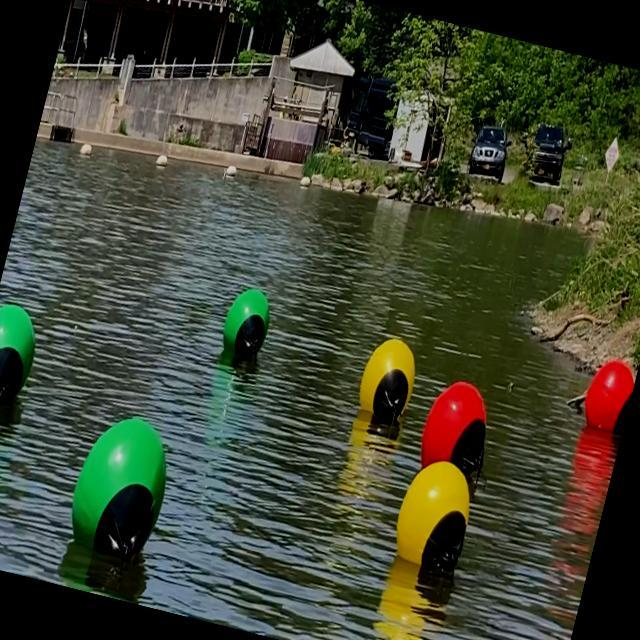buoy: (61, 406, 182, 567), (387, 451, 482, 580), (416, 374, 502, 478), (350, 330, 422, 425), (214, 282, 276, 365), (0, 298, 44, 411), (577, 356, 638, 436)
